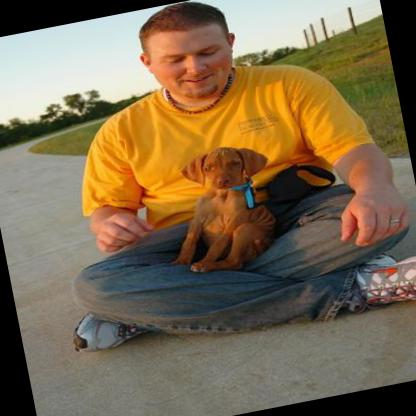vizsla: (143, 137, 284, 283)
